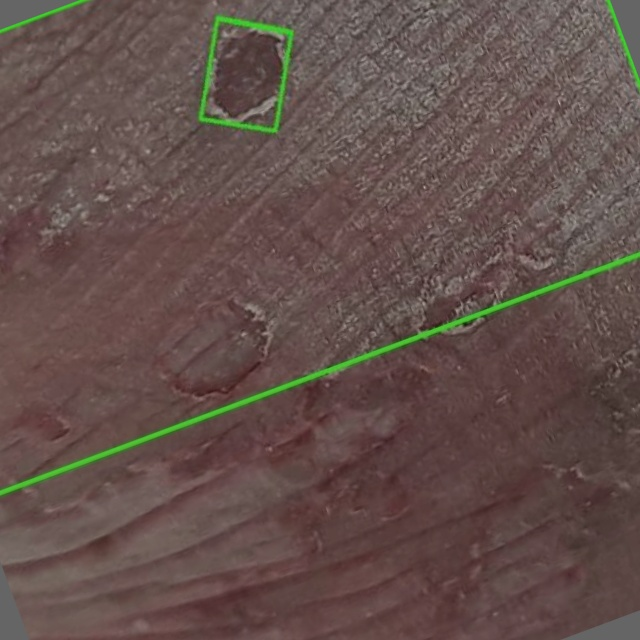Contact Dermatitis: (0, 0, 639, 494), (200, 19, 292, 131)
